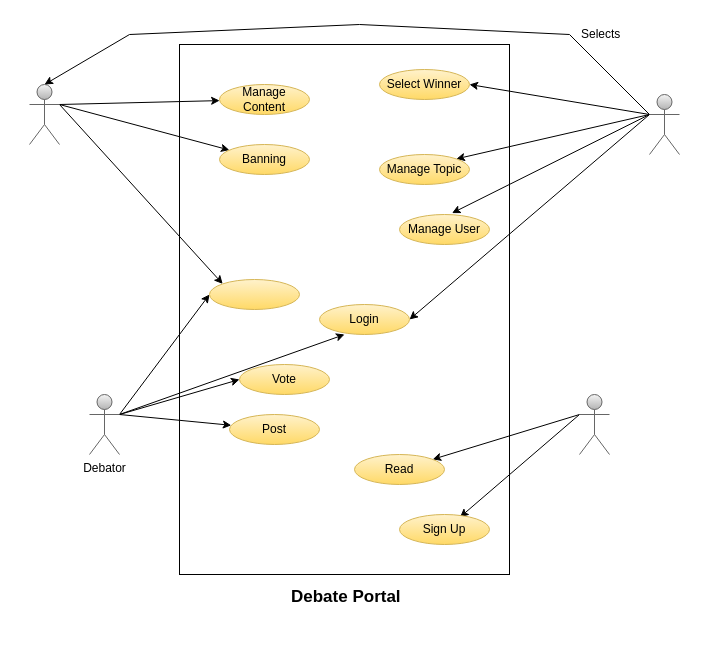
Some shapes in this 717 by 646 pixel diagram are drawn without their labels. Here are the shapes that lost their labels. From the top down, the centre of each, then its label:
At point (44, 114): "Moderator".
At point (664, 124): "Administrator".
At point (254, 294): "Select Topic".
At point (594, 424): "Guest".
